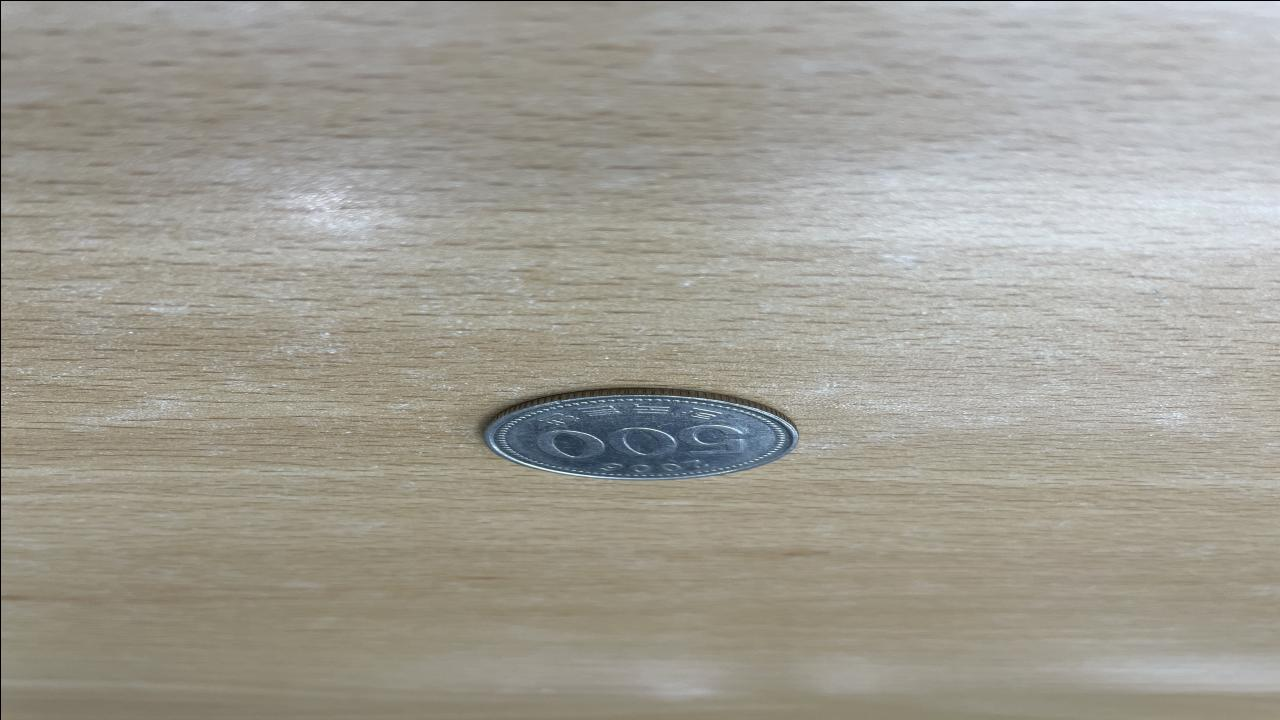coin: (481, 388, 801, 480)
